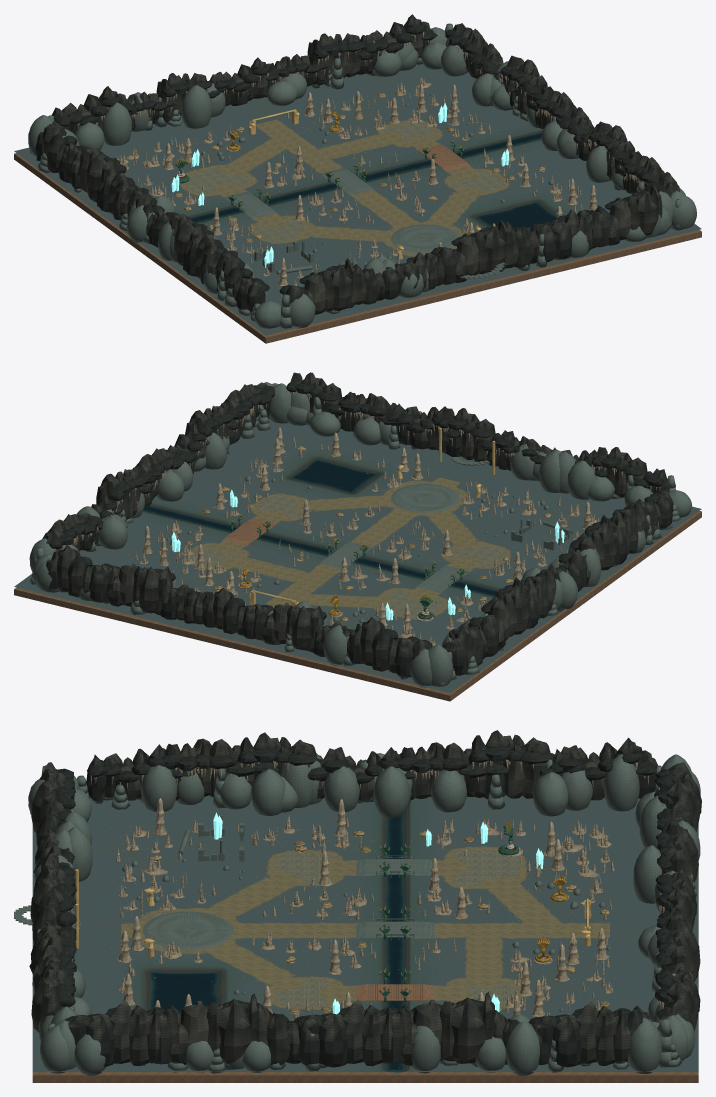
File: naga-cave.glb
The picture shows the model from 3 angles, top to bottom: view 1: azimuth 30°, elevation 25°; view 2: azimuth 150°, elevation 25°; view 3: azimuth 270°, elevation 25°; orthographic projection. The views are drawn at different scales.
Visible parts, largest first — view 1: Ground - varied meadow | ground_naga_cave, Open cave boundary | stone, Tracks - worn earth | path, Soil foundation | earth, Water surface | water, Courtyard paving | paving_cave, Perimeter weathered rock strata | stone, v8 cave wall 162 | v8_cave.005, Feathered road shoulders | path_edge, v8 cave wall 162 | v8_cave.006, v8 cave wall 162 | v8_cave.004, v8 cave wall 162 | v8_cave.001 (+27 smaller); view 2: Ground - varied meadow | ground_naga_cave, Open cave boundary | stone, Tracks - worn earth | path, Soil foundation | earth, Water surface | water, v8 cave wall 160 | v8_cave, Perimeter weathered rock strata | stone, Courtyard paving | paving_cave, Feathered road shoulders | path_edge, v8 cave wall 162 | v8_cave.001, v8 cave wall 162 | v8_cave, v8 cave wall 160 | v8_cave.002 (+26 smaller); view 3: Ground - varied meadow | ground_naga_cave, Open cave boundary | stone, Tracks - worn earth | path, Soil foundation | earth, Water surface | water, v8 cave wall 161 | v8_cave.004, Courtyard paving | paving_cave, v8 cave wall 162 | v8_cave.003, v8 cave wall 161 | v8_cave.003, v8 cave wall 162 | v8_cave.002, v8 cave wall 161 | v8_cave.002, Feathered road shoulders | path_edge (+28 smaller).
Part boxes in pixels (x1,y1,x2,y2): Ground - varied meadow | ground_naga_cave: (14,64,701,335); Open cave boundary | stone: (28,27,696,328); Tracks - worn earth | path: (181,120,506,255); Soil foundation | earth: (14,153,701,343); Water surface | water: (190,132,556,228); Courtyard paving | paving_cave: (183,122,504,254); Perimeter weathered rock strata | stone: (28,23,682,328); v8 cave wall 162 | v8_cave.005: (431,219,509,284); Feathered road shoulders | path_edge: (179,119,509,256); v8 cave wall 162 | v8_cave.006: (595,184,662,247); v8 cave wall 162 | v8_cave.004: (279,258,356,316); v8 cave wall 162 | v8_cave.001: (307,32,382,81); Ground - varied meadow | ground_naga_cave: (14,419,701,692); Open cave boundary | stone: (29,382,691,687); Tracks - worn earth | path: (189,478,508,618); Soil foundation | earth: (14,511,701,701); Water surface | water: (143,459,561,611); v8 cave wall 160 | v8_cave: (348,616,432,677); Perimeter weathered rock strata | stone: (30,383,680,686); Courtyard paving | paving_cave: (190,482,506,617); Feathered road shoulders | path_edge: (183,477,511,619); v8 cave wall 162 | v8_cave.001: (101,563,175,613); v8 cave wall 162 | v8_cave: (253,602,326,650); v8 cave wall 160 | v8_cave.002: (46,545,120,602); Ground - varied meadow | ground_naga_cave: (32,795,698,1071); Open cave boundary | stone: (28,753,700,1075); Tracks - worn earth | path: (121,848,609,1008); Soil foundation | earth: (32,962,698,1082); Water surface | water: (149,812,404,1072); v8 cave wall 161 | v8_cave.004: (528,1001,650,1067); Courtyard paving | paving_cave: (148,850,519,1006); v8 cave wall 162 | v8_cave.003: (384,992,494,1065); v8 cave wall 161 | v8_cave.003: (293,999,413,1067); v8 cave wall 162 | v8_cave.002: (153,993,259,1064); v8 cave wall 161 | v8_cave.002: (64,1000,181,1066); Feathered road shoulders | path_edge: (121,846,609,1009).
Bounding box in the file's own units: 185 × 24.63 × 186.
21 materials, 19 textured.
